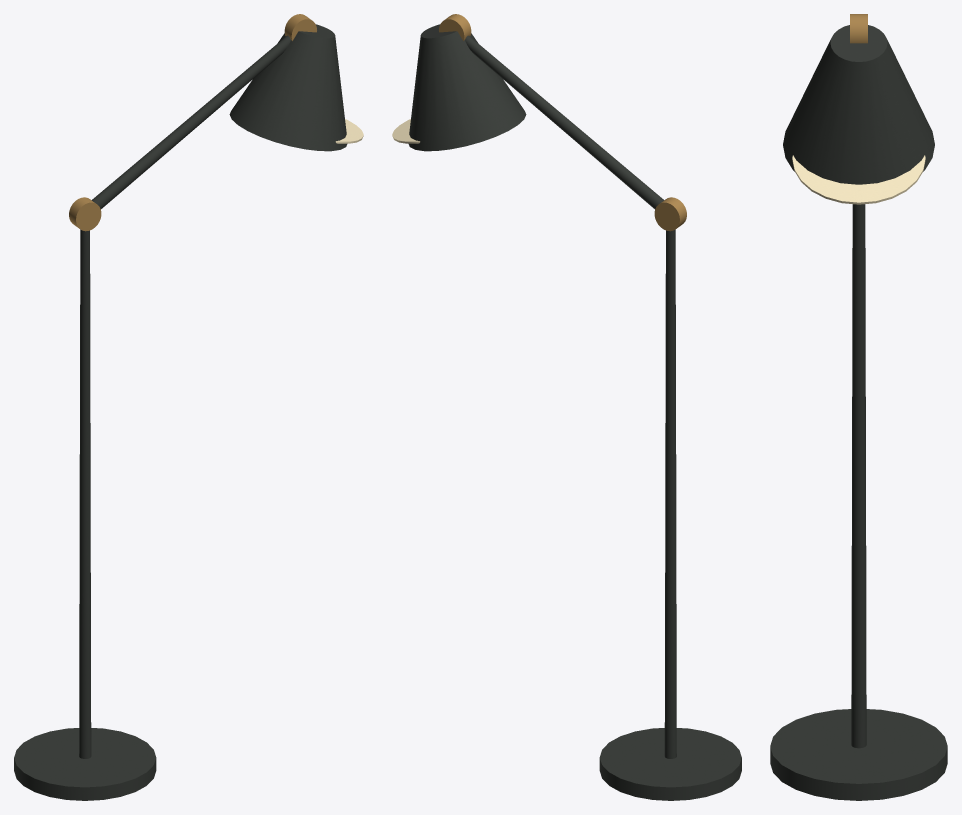
File: ranarp.glb
The picture shows the model from 3 angles, left to right: view 1: azimuth 30°, elevation 25°; view 2: azimuth 150°, elevation 25°; view 3: azimuth 270°, elevation 25°; orthographic projection. The views are drawn at different scales.
Visible parts, largest first — view 1: RANARP Reading floor lamp; view 2: RANARP Reading floor lamp; view 3: RANARP Reading floor lamp.
Boxes of the visible parts, x1,y1,x2,y2 form: RANARP Reading floor lamp: (14, 14, 363, 800); RANARP Reading floor lamp: (392, 14, 741, 800); RANARP Reading floor lamp: (770, 14, 947, 800).
Size of the model in its own units: 0.76 by 1.53 by 0.28.
3 materials, 2 textured.
